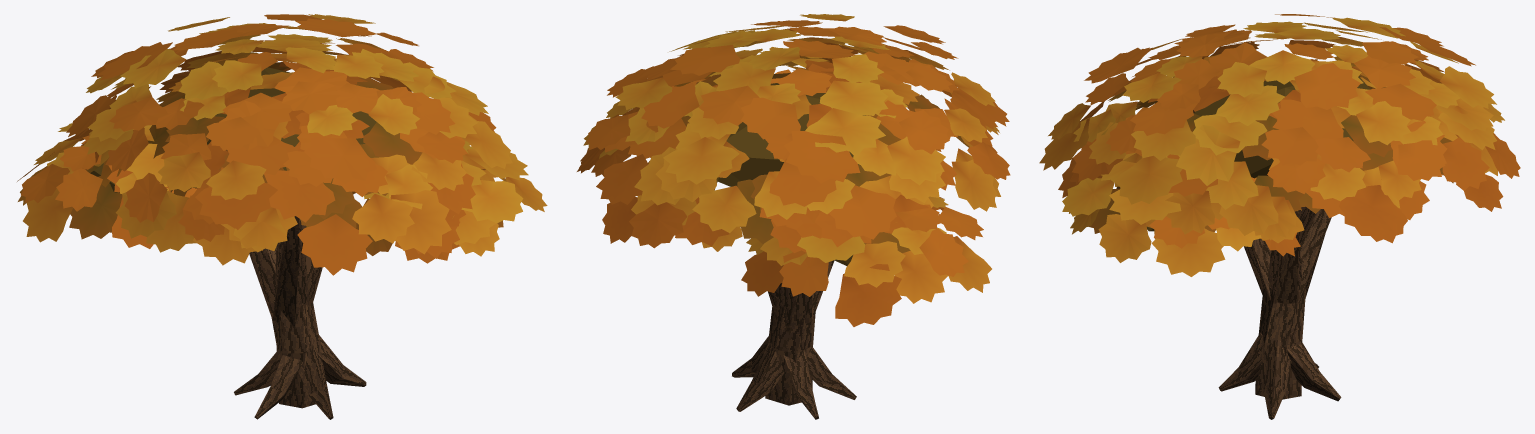
The model's file is tree_big_b.glb.
3 renders of one model, left to right at view 1: azimuth 30°, elevation 25°; view 2: azimuth 150°, elevation 25°; view 3: azimuth 270°, elevation 25°, orthographic.
Visible parts, largest first — view 1: sway_crown.007, tree_big_b; view 2: sway_crown.007, tree_big_b; view 3: sway_crown.007, tree_big_b.
Part boxes in pixels (<box>): sway_crown.007: <box>17,14,547,325</box>; tree_big_b: <box>234,294,366,419</box>; sway_crown.007: <box>577,14,1010,327</box>; tree_big_b: <box>732,296,856,419</box>; sway_crown.007: <box>1039,14,1520,314</box>; tree_big_b: <box>1218,287,1341,419</box>.
Size of the model in its own units: 8.94 by 7.3 by 9.37.
3 materials, 1 textured.
